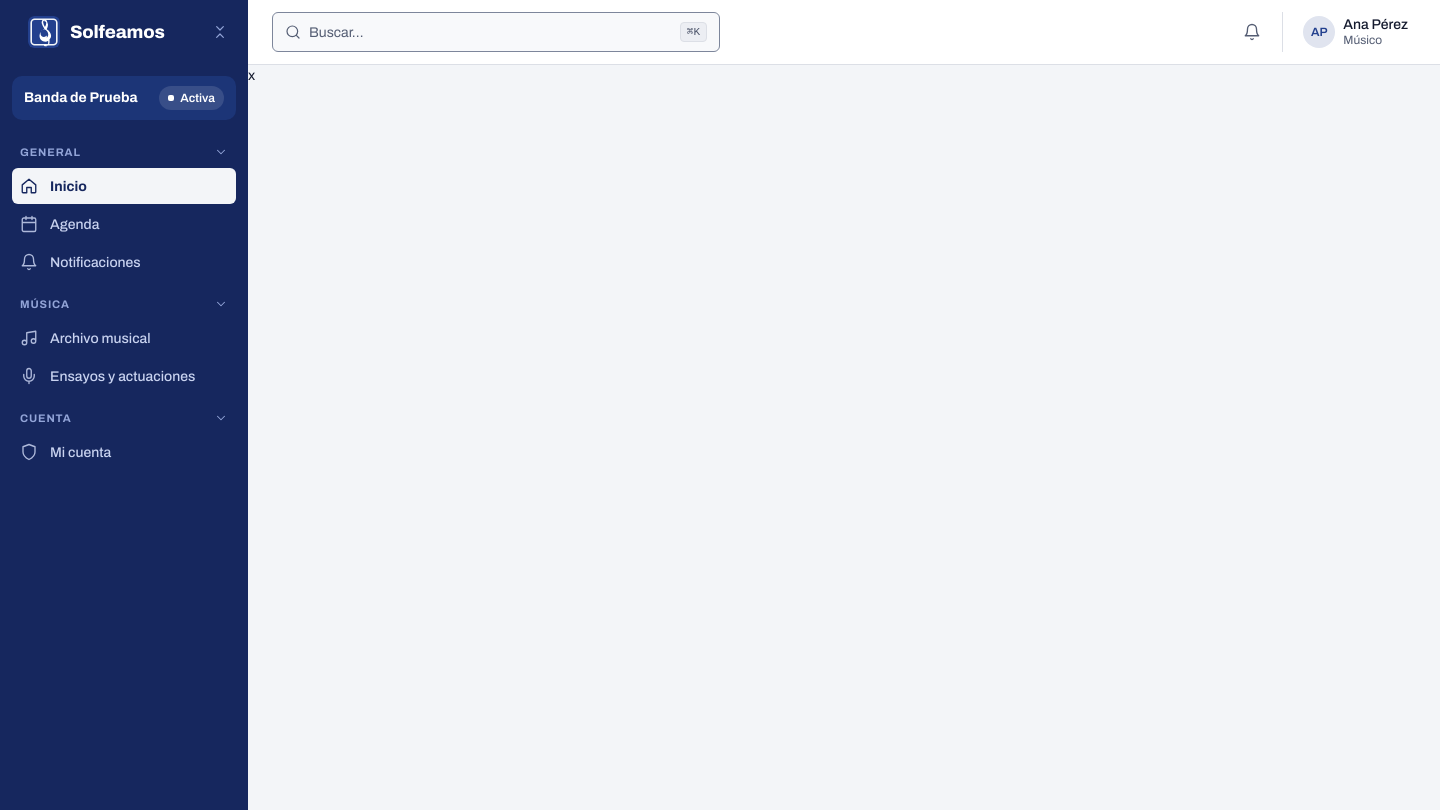
Test case: Shell › el menú de usuario agrupa seguridad, tema y cierre de sesión
Click the button with aria-label "Menú de ": point(1356, 32) [1295,12,1416,52]
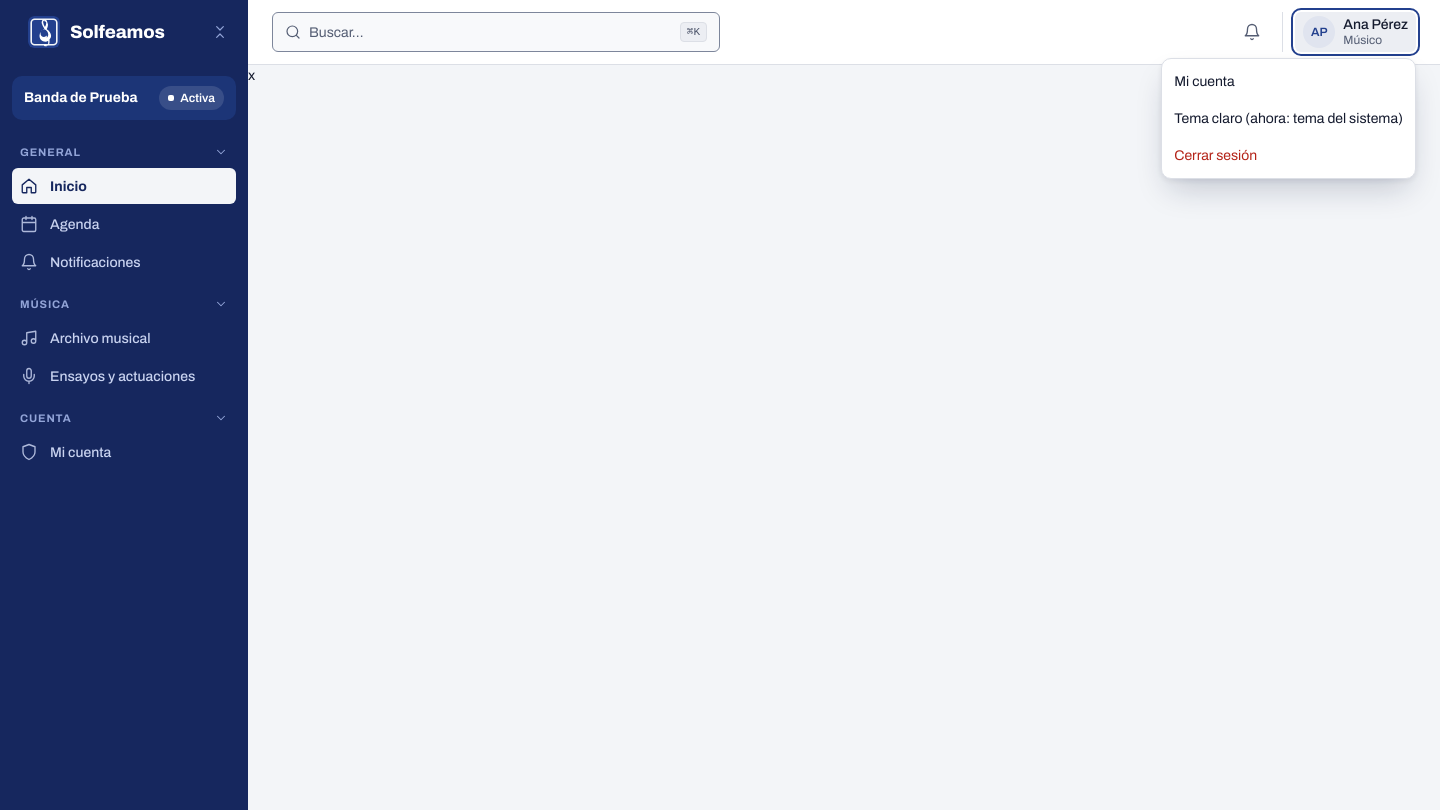
Expected: the text "Mi cuenta" is shown, [50,444,111,460]
Now the menu item "Cerrar sesión" is shown, box [1162,137,1415,174]
